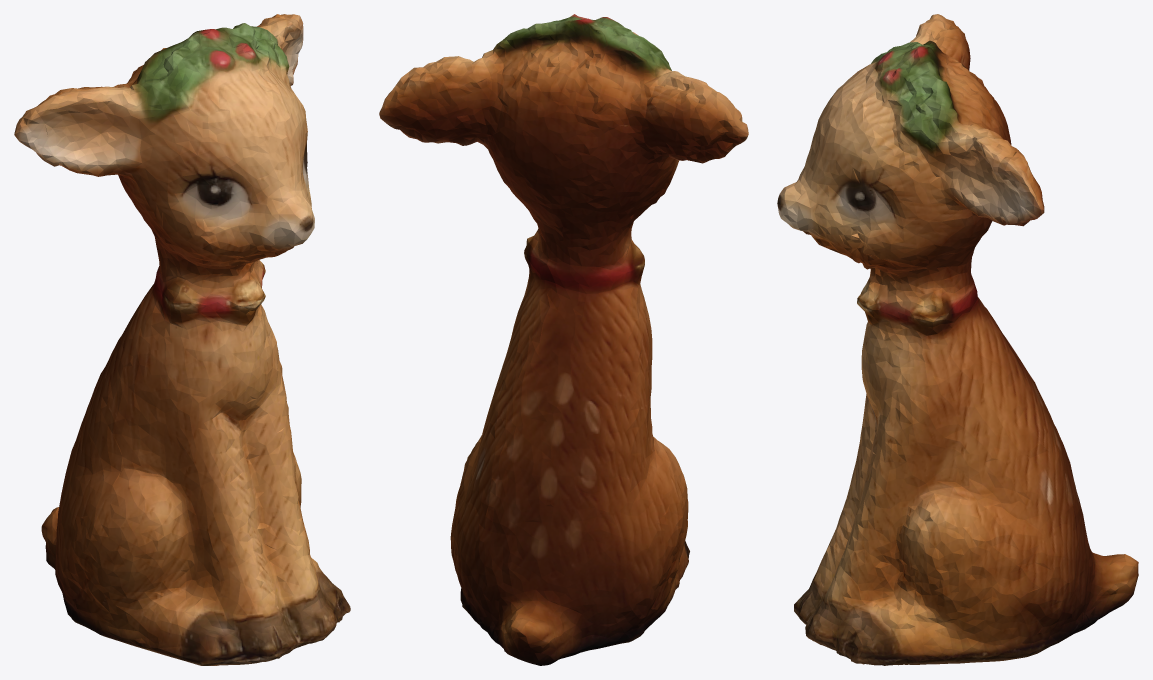
Rendered from Xmas deer.obj.
3 renders of one model, left to right at view 1: azimuth 30°, elevation 25°; view 2: azimuth 150°, elevation 25°; view 3: azimuth 270°, elevation 25°, orthographic. The views are drawn at different scales.
Parts seen in each view (by area): view 1: Xmas_Deer_a; view 2: Xmas_Deer_a; view 3: Xmas_Deer_a.
Part boxes in pixels (box(x1,y1,x2,y2)): Xmas_Deer_a: box(14, 14, 350, 665); Xmas_Deer_a: box(379, 14, 748, 665); Xmas_Deer_a: box(777, 14, 1138, 665).
Size of the model in its own units: 1.18 by 2.04 by 1.13.
Materials: 2 (1 with a texture image).
